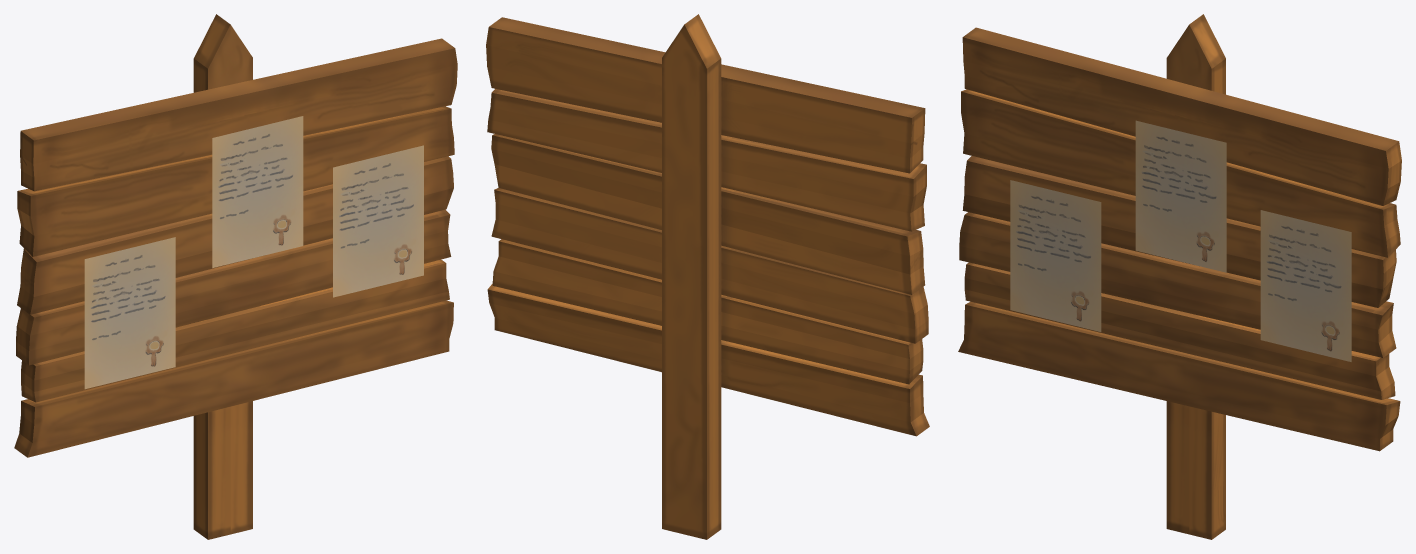
File: Notice Board.fbx
The picture shows the model from 3 angles, left to right: view 1: azimuth 30°, elevation 25°; view 2: azimuth 150°, elevation 25°; view 3: azimuth 330°, elevation 25°; orthographic projection.
Parts seen in each view (by area): view 1: Notice Board; view 2: Notice Board; view 3: Notice Board.
Part boxes in pixels (x1,y1,x2,y2): Notice Board: (14, 14, 457, 539); Notice Board: (486, 14, 929, 539); Notice Board: (958, 14, 1401, 539).
Bounding box in the file's own units: 1.91 × 2.17 × 0.2456.
